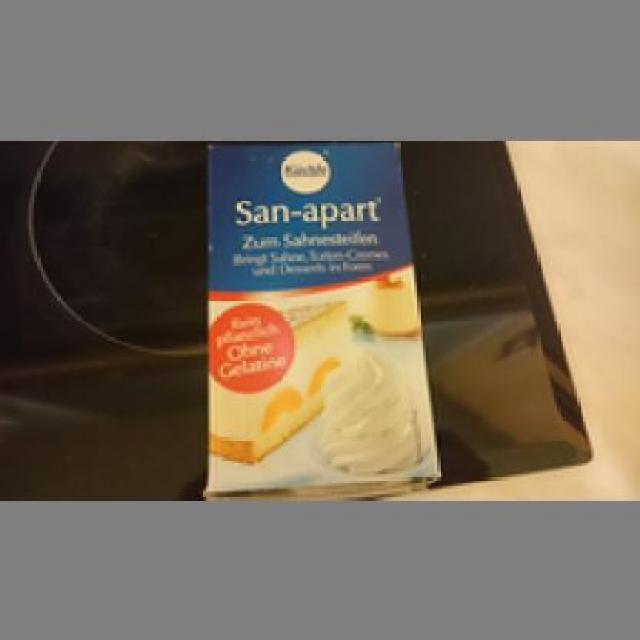Cake: (202, 137, 438, 490)
